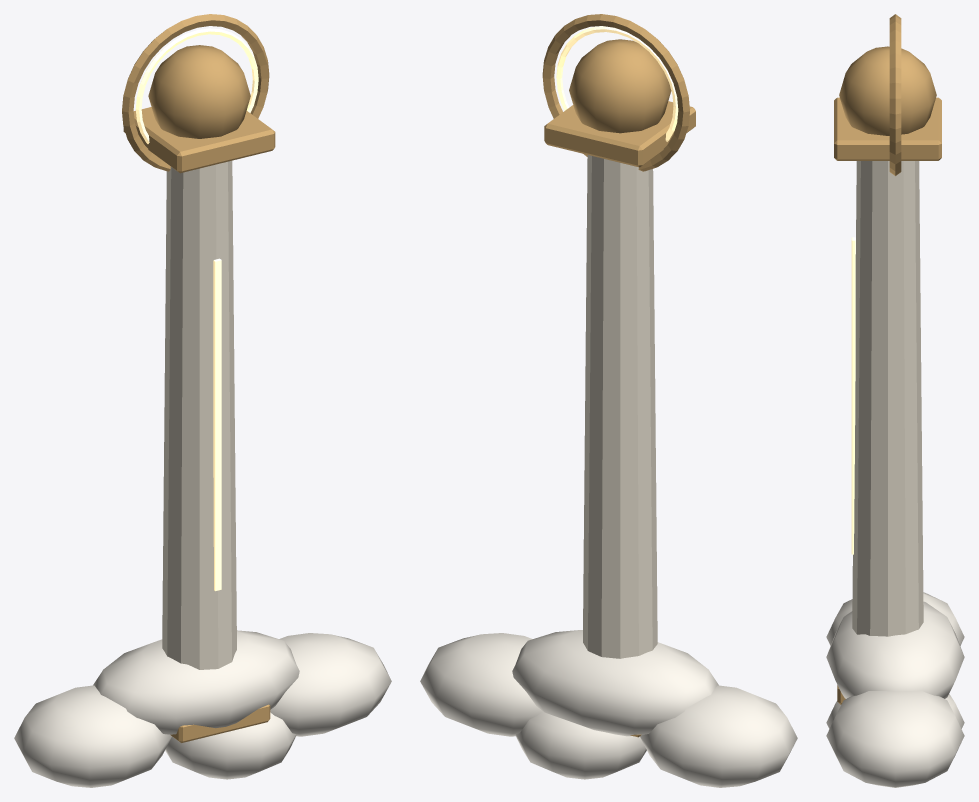
Rendered from div3_near_01_7m.glb.
3 views of the same model, side by side, from view 1: azimuth 30°, elevation 25°; view 2: azimuth 150°, elevation 25°; view 3: azimuth 270°, elevation 25° (orthographic). The views are drawn at different scales.
Visible parts, largest first — view 1: div3_near_01_7m__cloud-cream, div3_near_01_7m__porcelain-ivory, div3_near_01_7m__satin-honey-brass, div3_near_01_7m__warm-luminous; view 2: div3_near_01_7m__cloud-cream, div3_near_01_7m__porcelain-ivory, div3_near_01_7m__satin-honey-brass, div3_near_01_7m__warm-luminous; view 3: div3_near_01_7m__porcelain-ivory, div3_near_01_7m__cloud-cream, div3_near_01_7m__satin-honey-brass, div3_near_01_7m__warm-luminous.
Part boxes in pixels (left/top/right/bottom): div3_near_01_7m__cloud-cream: left=14, top=630, right=391, bottom=787; div3_near_01_7m__porcelain-ivory: left=162, top=160, right=236, bottom=669; div3_near_01_7m__satin-honey-brass: left=122, top=14, right=275, bottom=742; div3_near_01_7m__warm-luminous: left=135, top=28, right=258, bottom=591; div3_near_01_7m__cloud-cream: left=420, top=630, right=797, bottom=787; div3_near_01_7m__porcelain-ivory: left=583, top=155, right=657, bottom=658; div3_near_01_7m__satin-honey-brass: left=542, top=14, right=695, bottom=737; div3_near_01_7m__warm-luminous: left=556, top=26, right=678, bottom=141; div3_near_01_7m__porcelain-ivory: left=852, top=161, right=923, bottom=636; div3_near_01_7m__cloud-cream: left=826, top=592, right=964, bottom=787; div3_near_01_7m__satin-honey-brass: left=834, top=14, right=941, bottom=704; div3_near_01_7m__warm-luminous: left=851, top=237, right=855, bottom=554.
Size of the model in its own units: 5.29 by 10.65 by 1.84.
